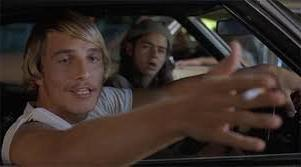Drunk: (50, 36, 104, 112)
